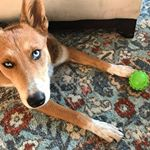puppy: (1, 1, 61, 113)
